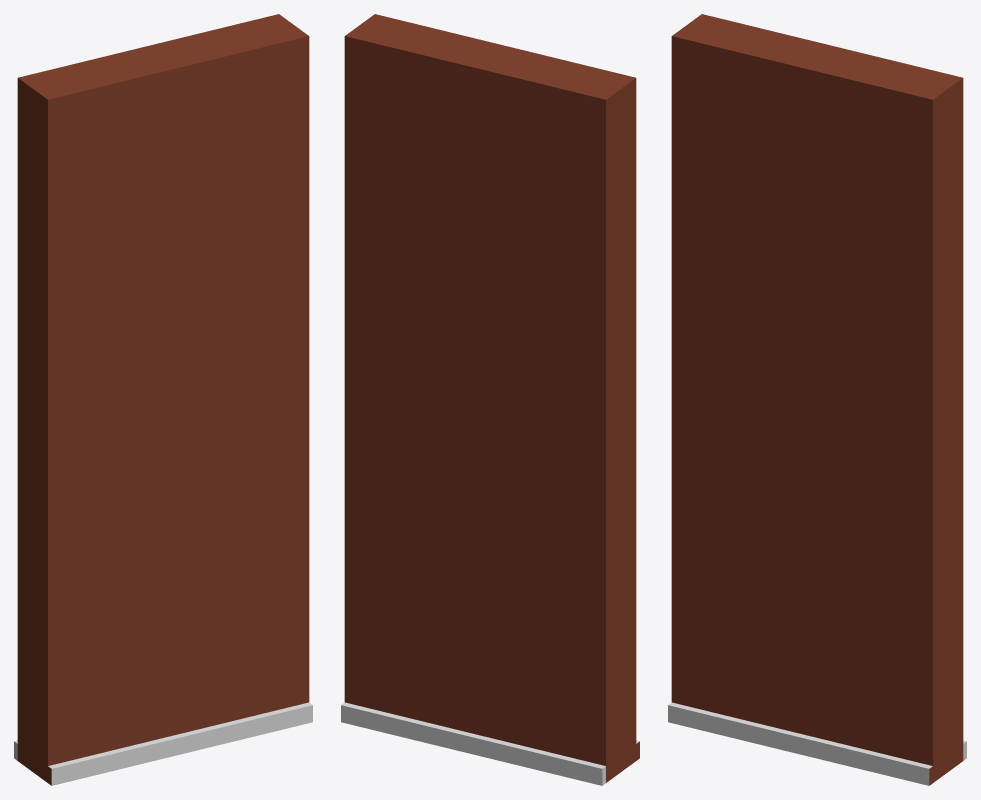
Rendered from Wall.fbx.
3 renders of one model, left to right at view 1: azimuth 30°, elevation 25°; view 2: azimuth 150°, elevation 25°; view 3: azimuth 330°, elevation 25°, orthographic.
Parts seen in each view (by area): view 1: Wall006; view 2: Wall006; view 3: Wall006.
Part boxes in pixels (bbox=[...]): Wall006: bbox=[14, 14, 312, 785]; Wall006: bbox=[341, 14, 639, 785]; Wall006: bbox=[668, 14, 966, 785].
Size of the model in its own units: 100 by 25 by 250.
